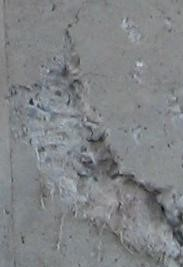Spalling: (4, 23, 183, 267)
